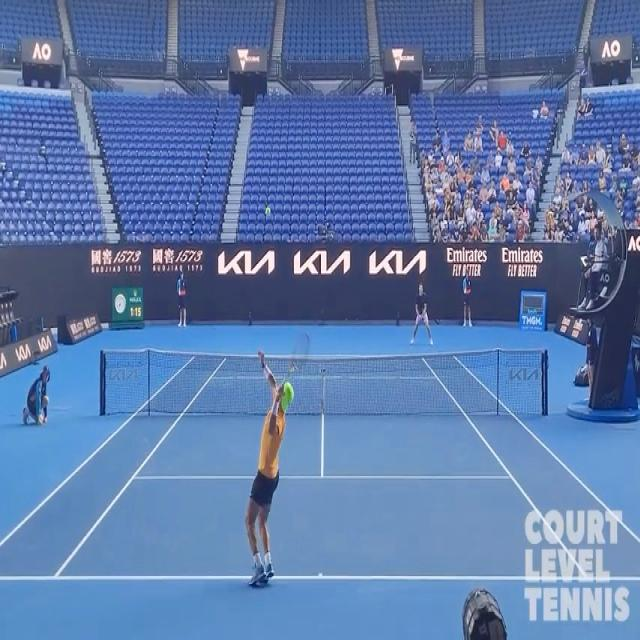serve_hit: (231, 330, 307, 608)
